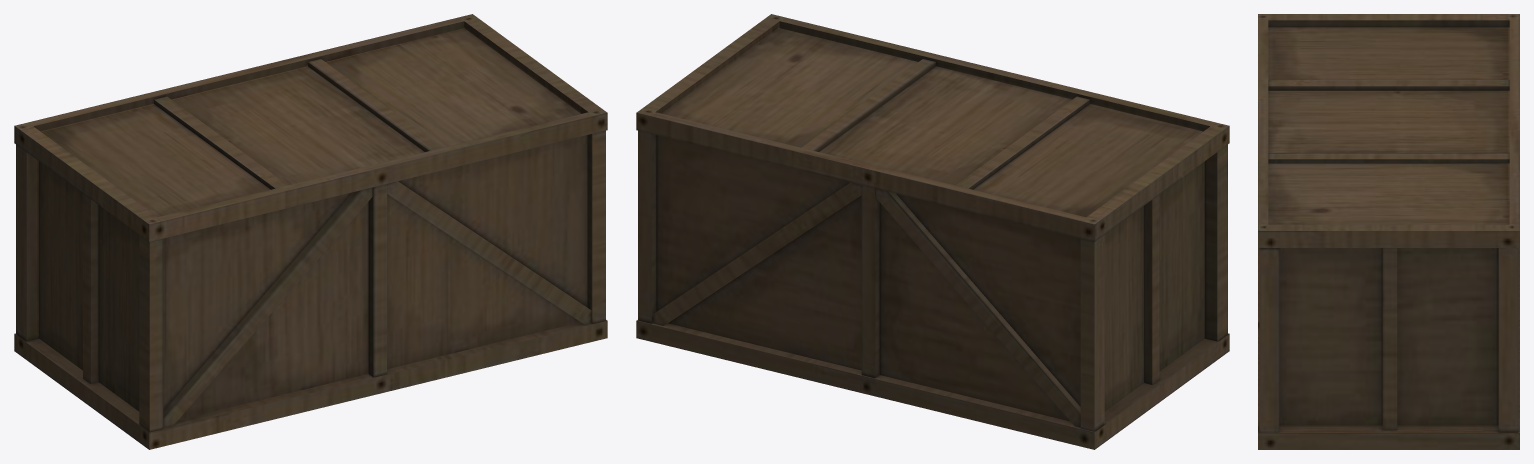
The model's file is crate_long.glb.
3 renders of one model, left to right at view 1: azimuth 30°, elevation 25°; view 2: azimuth 150°, elevation 25°; view 3: azimuth 270°, elevation 25°, orthographic. The views are drawn at different scales.
Visible parts, largest first — view 1: crate2; view 2: crate2; view 3: crate2.
Part boxes in pixels (x1=…): crate2: x1=14, y1=14, x2=607, y2=449; crate2: x1=636, y1=14, x2=1229, y2=449; crate2: x1=1258, y1=14, x2=1519, y2=449.
Size of the model in its own units: 1.72 by 0.81 by 0.8783.
Materials: 1 (1 with a texture image).
